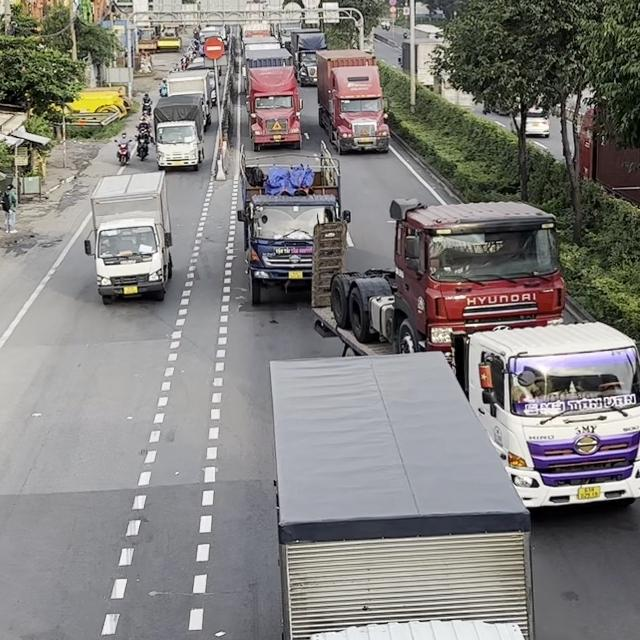motorcycle: (135, 127, 151, 160), (115, 138, 131, 166)
truck: (268, 350, 535, 639), (327, 197, 566, 366), (456, 320, 639, 510), (236, 140, 351, 305), (83, 169, 173, 304), (315, 48, 390, 154), (244, 47, 303, 151), (152, 98, 205, 171), (164, 68, 216, 129), (289, 28, 327, 86)
